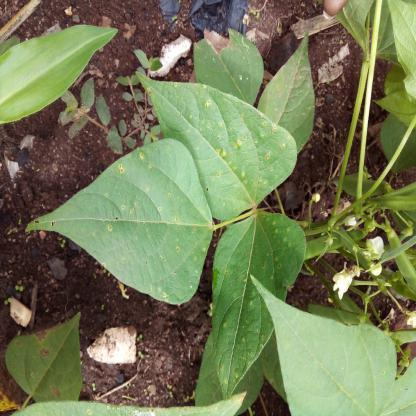Beans_Rust: (28, 141, 215, 302), (134, 70, 298, 219), (210, 208, 306, 400), (5, 312, 85, 402)
